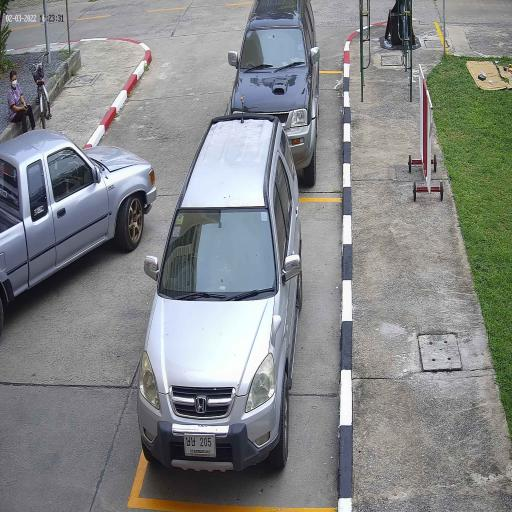car: (138, 111, 300, 473), (0, 132, 156, 330), (230, 0, 318, 182)
